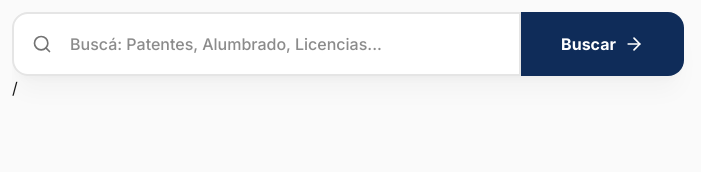
Test case: SearchBar › navega al portal con la búsqueda codificada
Type "  alumbrado público " into the field with placeholder "Buscá: Patentes, Alumbrado, Licencias..." at (267, 44), box x1=12 y1=12 x2=521 y2=76
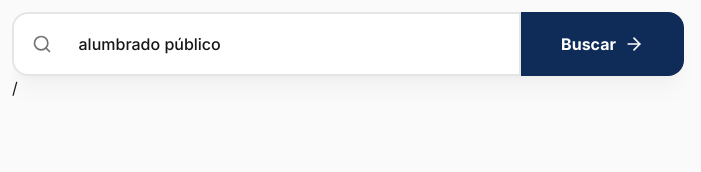
Click the button "Buscar" at (603, 44), box x1=521 y1=12 x2=684 y2=76
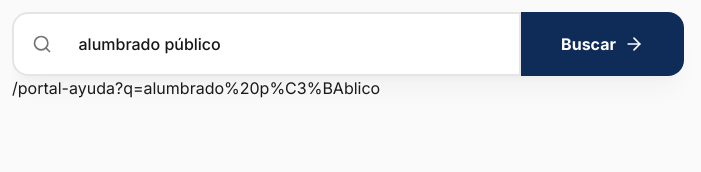
Result: the text with test id "loc" reads "/portal-ayuda?q=alumbrado%20p%C3%BAblico" at x1=12 y1=78 x2=380 y2=98
